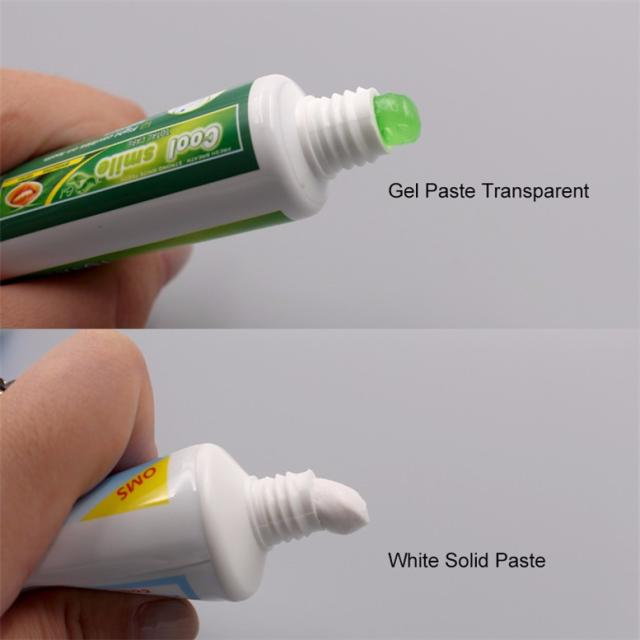toothpaste: (0, 49, 433, 285), (26, 430, 383, 614)
